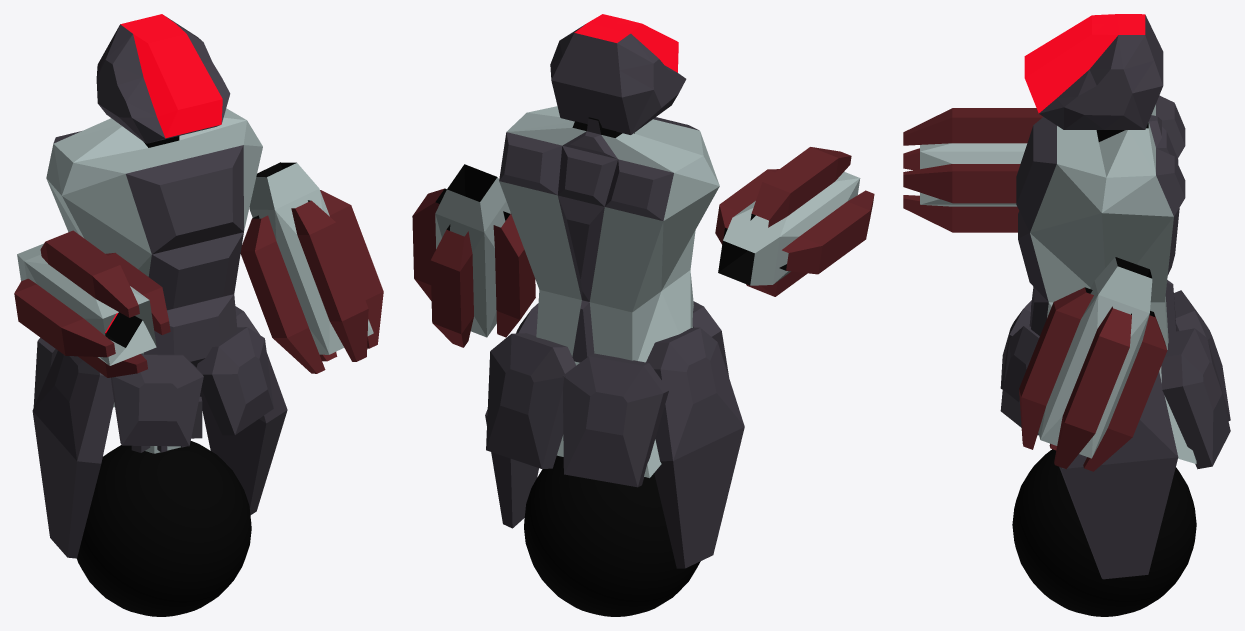
The model's file is character_body.glb.
The picture shows the model from 3 angles, left to right: view 1: azimuth 30°, elevation 25°; view 2: azimuth 150°, elevation 25°; view 3: azimuth 270°, elevation 25°; orthographic projection.
Visible parts, largest first — view 1: Cube, Cube.002, Sphere, Cube.004, Cube.003, Cube.001; view 2: Cube, Cube.002, Sphere, Cube.003, Cube.004, Cube.001; view 3: Cube, Cube.002, Cube.004, Sphere, Cube.003, Cube.001.
Part boxes in pixels (x1,y1,x2,y2): Cube: (46,108,262,453); Cube.002: (32,306,287,558); Sphere: (77,441,251,616); Cube.004: (240,162,383,373); Cube.003: (14,230,170,377); Cube.001: (96,14,230,143); Cube: (499,106,719,477); Cube.002: (485,301,744,568); Sphere: (524,455,700,616); Cube.003: (715,147,874,296); Cube.004: (412,164,535,347); Cube.001: (550,14,686,134); Cube: (1016,95,1196,463); Cube.002: (1000,290,1230,579); Cube.004: (1019,257,1167,471); Sphere: (1012,449,1196,616); Cube.003: (903,108,1042,232); Cube.001: (1024,14,1163,129).
Bounding box in the file's own units: 5.53 × 8.05 × 4.09.
